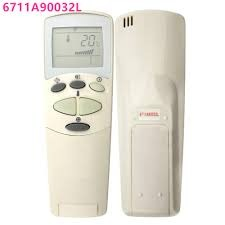remote control: (114, 16, 187, 217), (44, 16, 109, 216)
